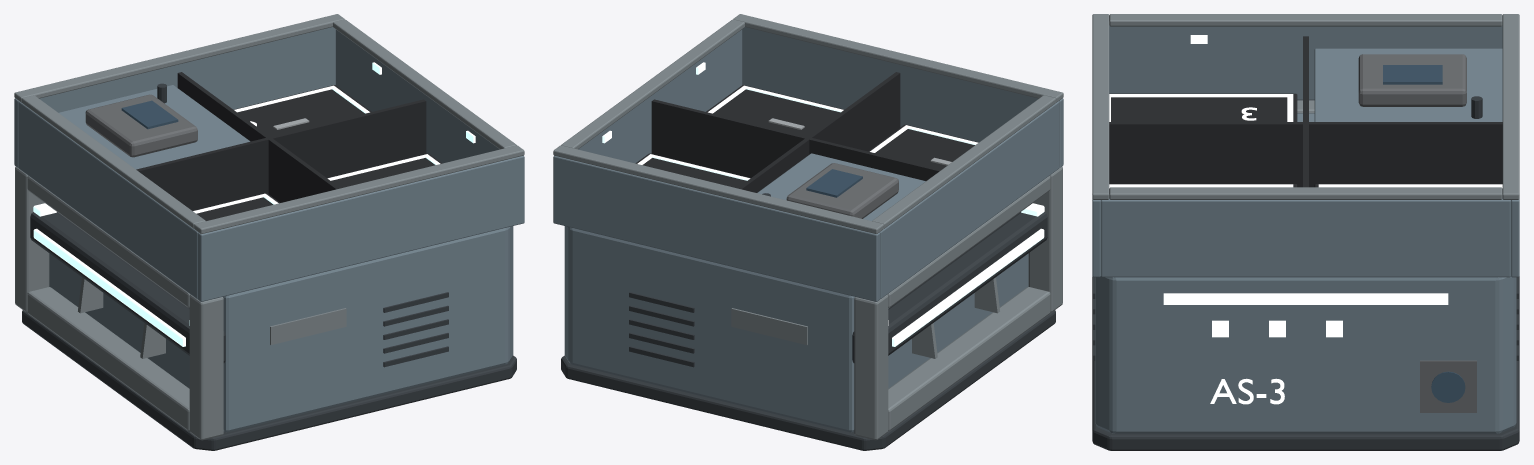
Rendered from robot-2763-spec2027.glb.
3 renders of one model, left to right at view 1: azimuth 30°, elevation 25°; view 2: azimuth 150°, elevation 25°; view 3: azimuth 270°, elevation 25°, orthographic. The views are drawn at different scales.
Visible parts, largest first — view 1: Hangar_TeamPrimaryShell, Hangar_RobotMatteAluminum, Hangar_CarbonPlate, Hangar_RobotMatteGraphite, LightBar_RobotMatteGraphite, Hangar_RefereeModuleGray, LightBar_TeamGlow, Hangar_TeamGlow, LightBar_RobotMatteAluminum, Hangar_CameraLens; view 2: Hangar_TeamPrimaryShell, Hangar_RobotMatteAluminum, Hangar_CarbonPlate, Hangar_RobotMatteGraphite, LightBar_RobotMatteGraphite, Hangar_RefereeModuleGray, LightBar_TeamGlow, Hangar_TeamGlow, LightBar_RobotMatteAluminum, Hangar_CameraLens; view 3: Hangar_TeamPrimaryShell, Hangar_CarbonPlate, Hangar_RobotMatteAluminum, Hangar_RobotMatteGraphite, Hangar_RefereeModuleGray, Hangar_TeamGlow, Hangar_CameraLens, Hangar_StatusWhite.
Boxes of the visible parts, x1=… form: Hangar_TeamPrimaryShell: x1=14, y1=27, x2=524, y2=432; Hangar_RobotMatteAluminum: x1=14, y1=14, x2=524, y2=440; Hangar_CarbonPlate: x1=136, y1=72, x2=442, y2=220; Hangar_RobotMatteGraphite: x1=22, y1=83, x2=516, y2=450; LightBar_RobotMatteGraphite: x1=30, y1=212, x2=225, y2=362; Hangar_RefereeModuleGray: x1=85, y1=94, x2=197, y2=157; LightBar_TeamGlow: x1=33, y1=203, x2=189, y2=346; Hangar_TeamGlow: x1=193, y1=62, x2=475, y2=213; LightBar_RobotMatteAluminum: x1=78, y1=277, x2=165, y2=358; Hangar_CameraLens: x1=121, y1=100, x2=178, y2=129; Hangar_TeamPrimaryShell: x1=553, y1=27, x2=1063, y2=432; Hangar_RobotMatteAluminum: x1=553, y1=14, x2=1063, y2=440; Hangar_CarbonPlate: x1=635, y1=72, x2=978, y2=192; Hangar_RobotMatteGraphite: x1=561, y1=193, x2=1055, y2=450; LightBar_RobotMatteGraphite: x1=852, y1=212, x2=1047, y2=362; Hangar_RefereeModuleGray: x1=786, y1=163, x2=898, y2=218; LightBar_TeamGlow: x1=888, y1=203, x2=1044, y2=346; Hangar_TeamGlow: x1=602, y1=62, x2=978, y2=180; LightBar_RobotMatteAluminum: x1=912, y1=277, x2=999, y2=358; Hangar_CameraLens: x1=806, y1=169, x2=862, y2=197; Hangar_TeamPrimaryShell: x1=1092, y1=25, x2=1519, y2=433; Hangar_CarbonPlate: x1=1109, y1=36, x2=1502, y2=187; Hangar_RobotMatteAluminum: x1=1092, y1=14, x2=1519, y2=199; Hangar_RobotMatteGraphite: x1=1092, y1=96, x2=1519, y2=450; Hangar_RefereeModuleGray: x1=1358, y1=54, x2=1476, y2=412; Hangar_TeamGlow: x1=1109, y1=35, x2=1502, y2=304; Hangar_CameraLens: x1=1383, y1=65, x2=1465, y2=402; Hangar_StatusWhite: x1=1210, y1=107, x2=1342, y2=404.
Size of the model in its own units: 0.3 by 0.2 by 0.3.
